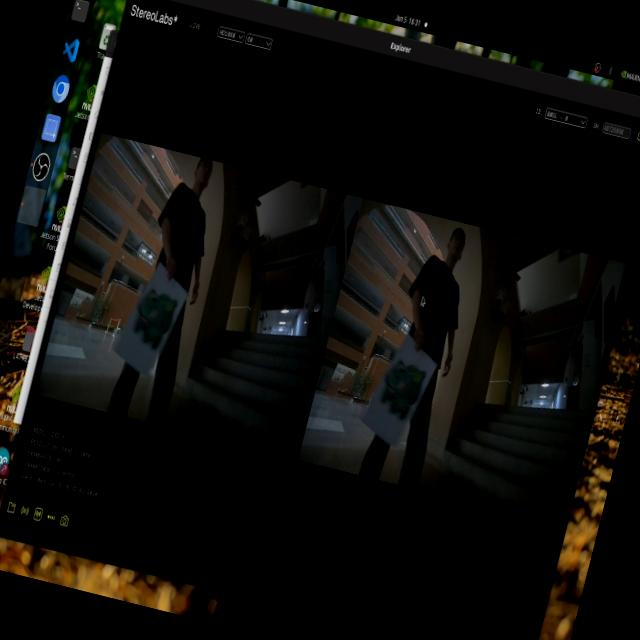green: (375, 348, 431, 428), (129, 278, 184, 342)
